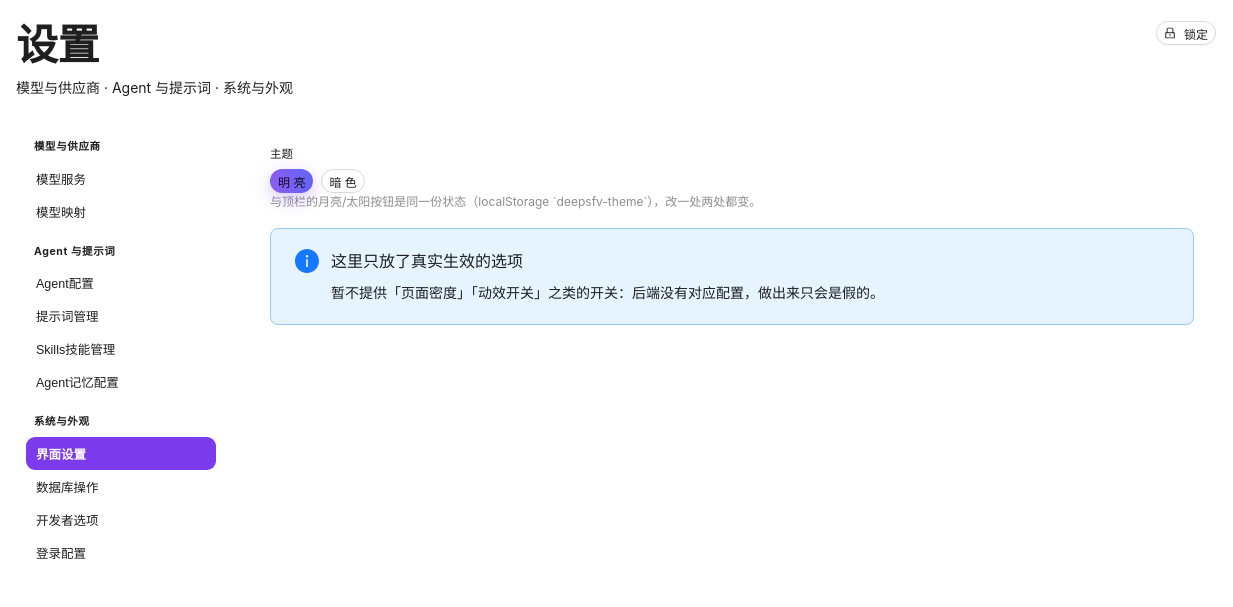
Test: SettingsPage（设置中心） › 提示词面板能改到自定义内容并保存
Expected: the text "主题" is shown, [270, 147, 293, 161]
Step 1. Click the button "提示词管理" → [121, 316], box [26, 299, 216, 332]
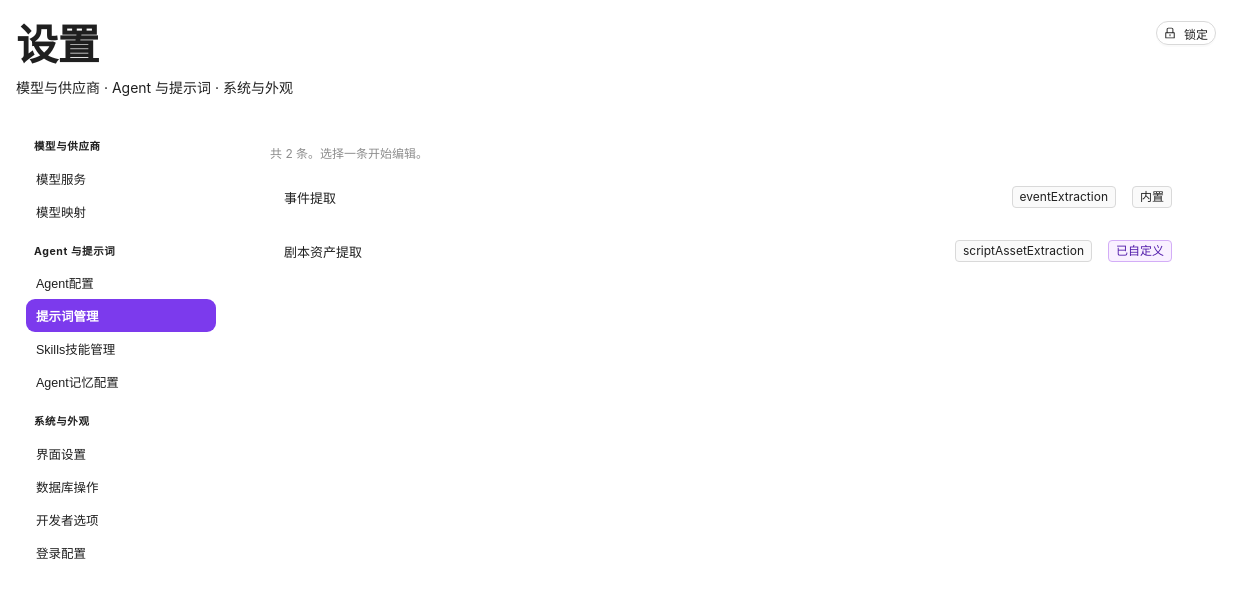
Expected: the text "事件提取" is shown
Expected: the text "已自定义" is shown, [1108, 240, 1172, 262]
Step 2. Click the text "事件提取" → [310, 197], box [284, 188, 336, 207]
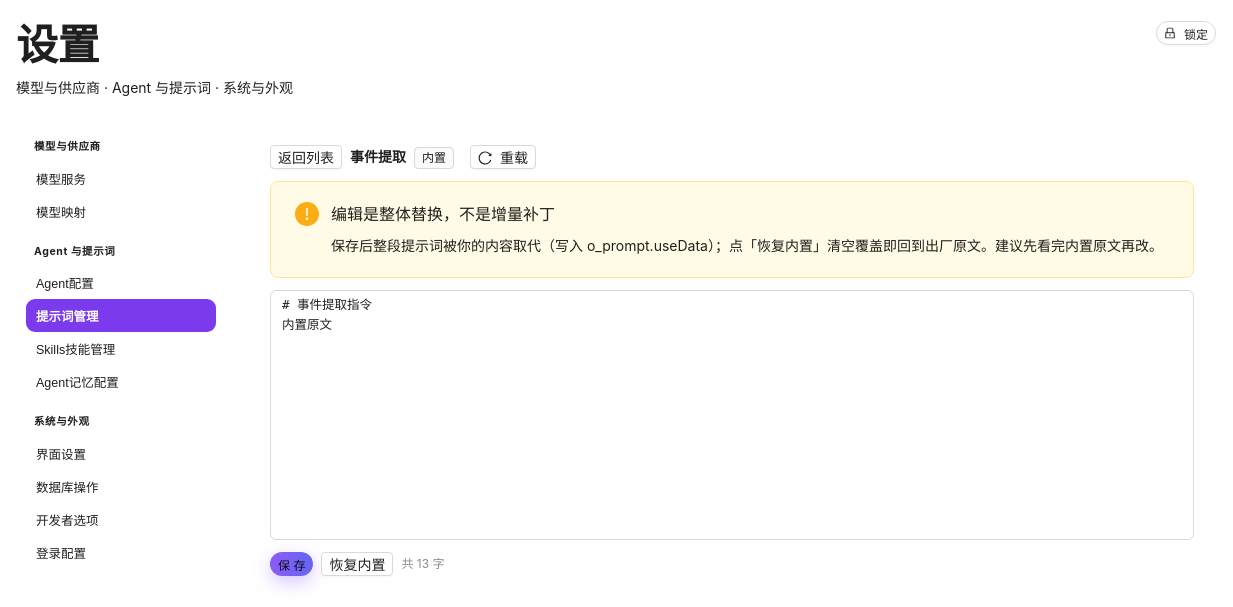
Step 3. Replace the text in the text box with "# 改过的版本" → [732, 415], box [270, 290, 1194, 540]
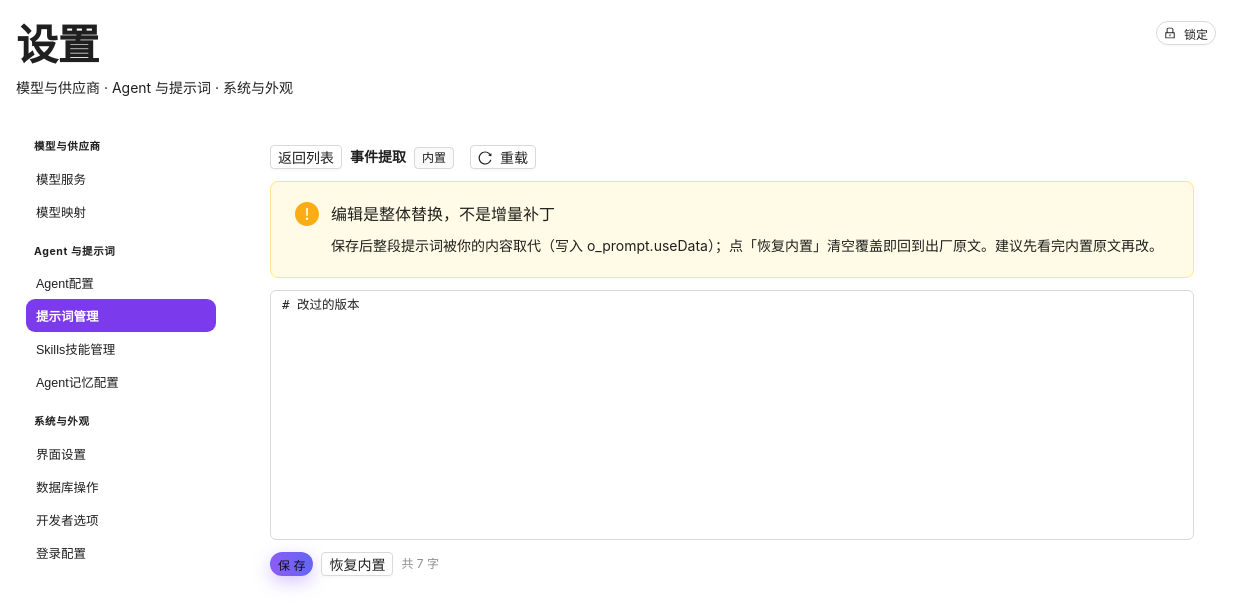
Step 4. Click the button "保 存" → [292, 564], box [270, 552, 313, 576]
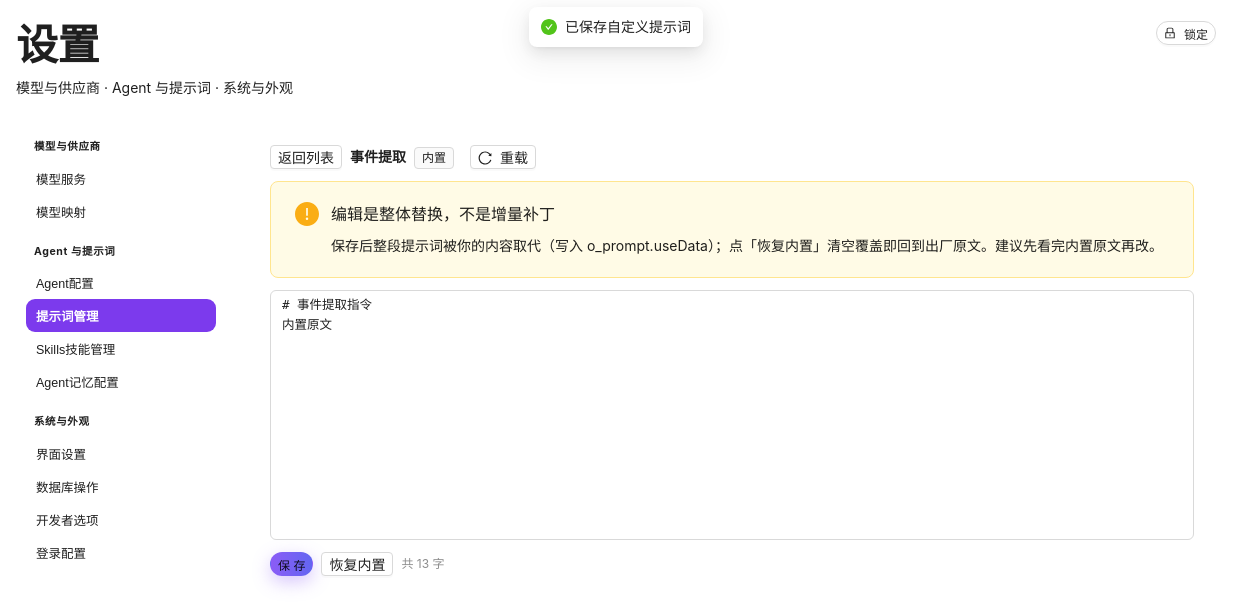
Expected: the text "已保存自定义提示词" is shown, [565, 16, 691, 38]
